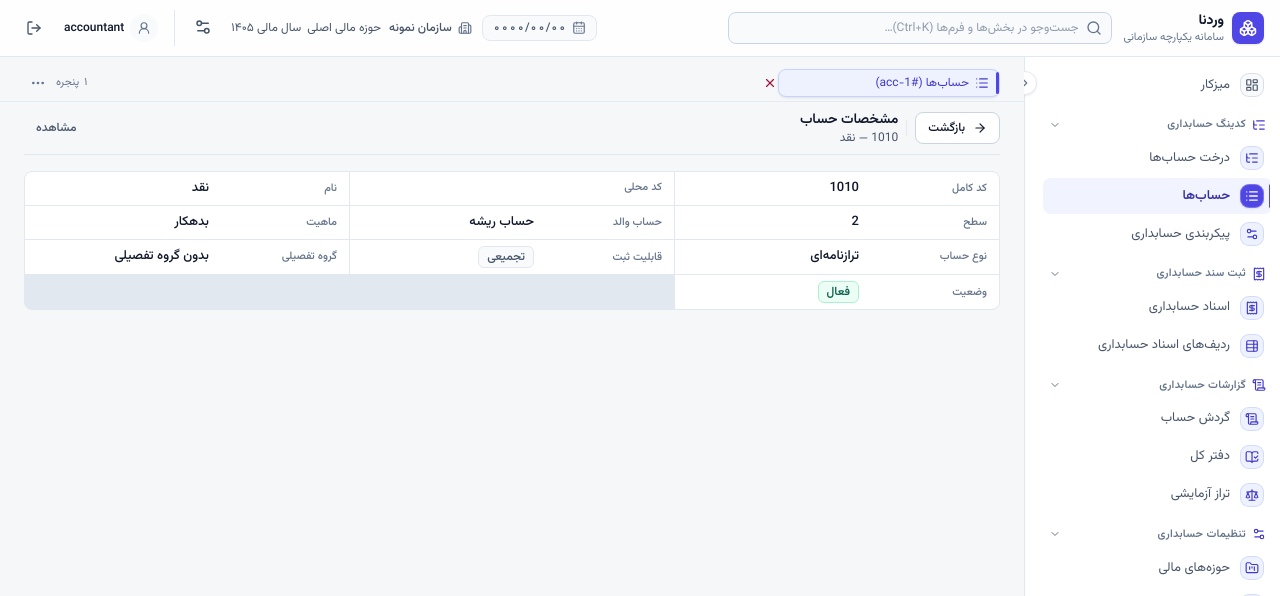
workspace form chrome › sends Back from a directly opened record to its list window
Expected: the header with test id "form-page-header" is shown, top-left (24, 110), bottom-right (1000, 155)
Step 1. Click the button with test id "form-page-header-back" → (958, 128), box top-left (915, 112), bottom-right (1000, 144)
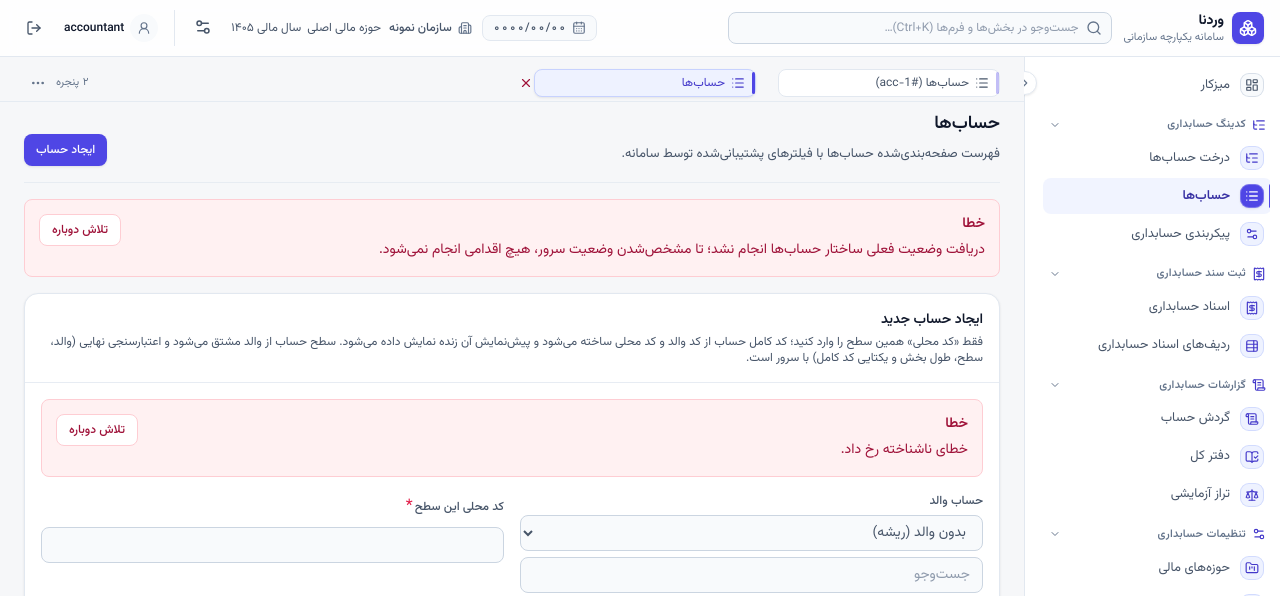
Now the heading "حساب‌ها" is shown, box top-left (934, 110), bottom-right (1000, 138)
